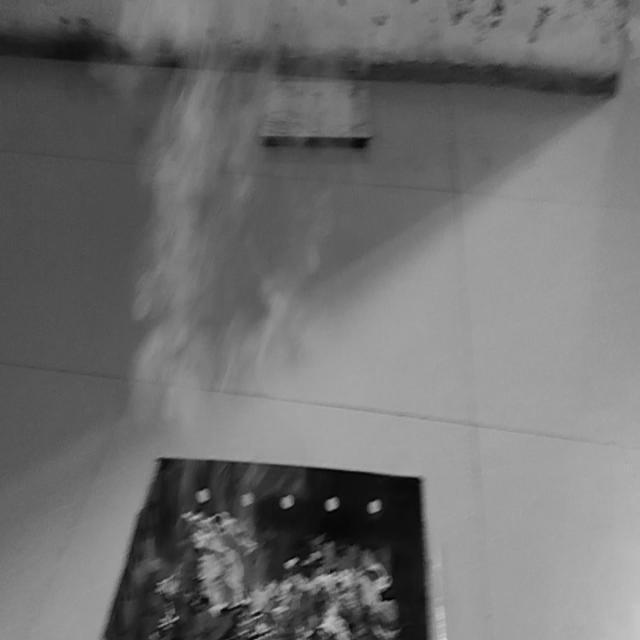fire: (122, 0, 245, 423)
